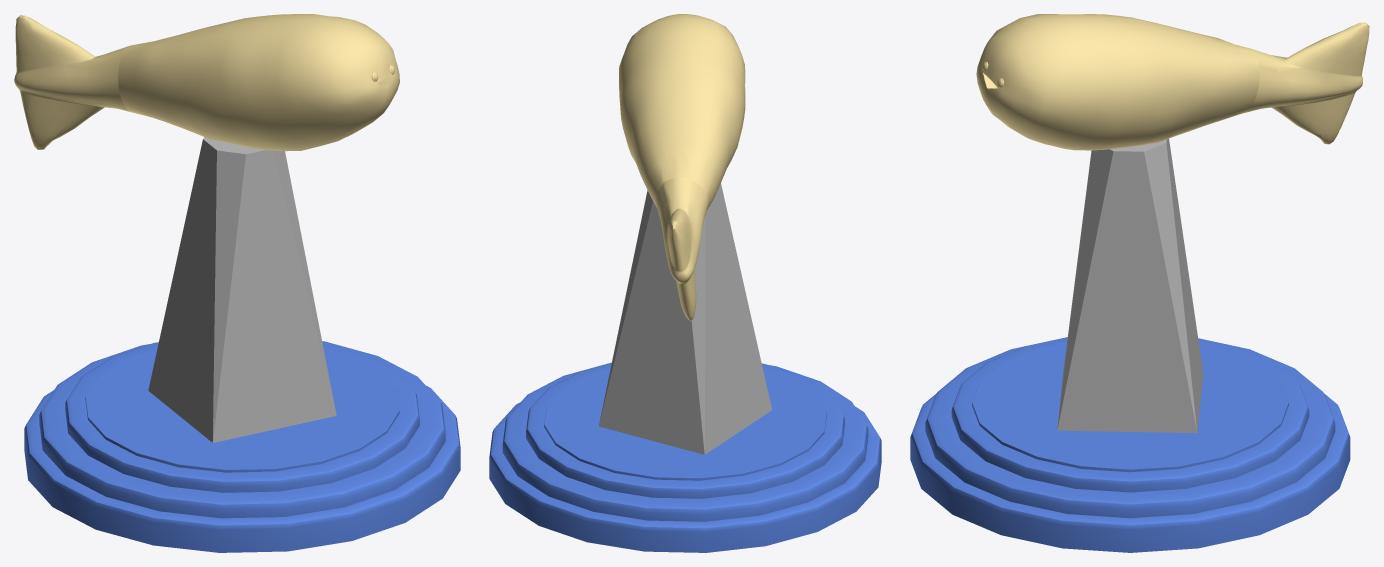
The model's file is Sacabambaspis_Statue.fbx.
3 views of the same model, side by side, from view 1: azimuth 30°, elevation 25°; view 2: azimuth 150°, elevation 25°; view 3: azimuth 270°, elevation 25° (orthographic). The views are drawn at different scales.
Visible parts, largest first — view 1: Base, Stand, My_Sacabampaspis; view 2: Base, Stand, My_Sacabampaspis; view 3: Base, My_Sacabampaspis, Stand.
Part boxes in pixels (x1,y1,x2,y2): Base: (24,341,460,552); Stand: (148,137,336,442); My_Sacabampaspis: (14,14,399,151); Base: (489,362,881,552); Stand: (599,183,771,454); My_Sacabampaspis: (619,14,745,320); Base: (910,337,1350,552); My_Sacabampaspis: (976,14,1369,150); Stand: (1057,138,1203,433).
Bounding box in the file's own units: 136 × 156 × 142.
